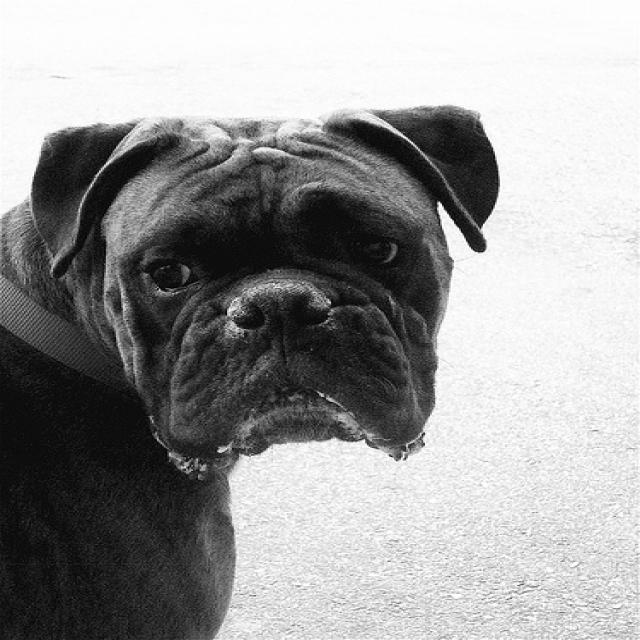dog-boxer: (2, 100, 510, 637)
